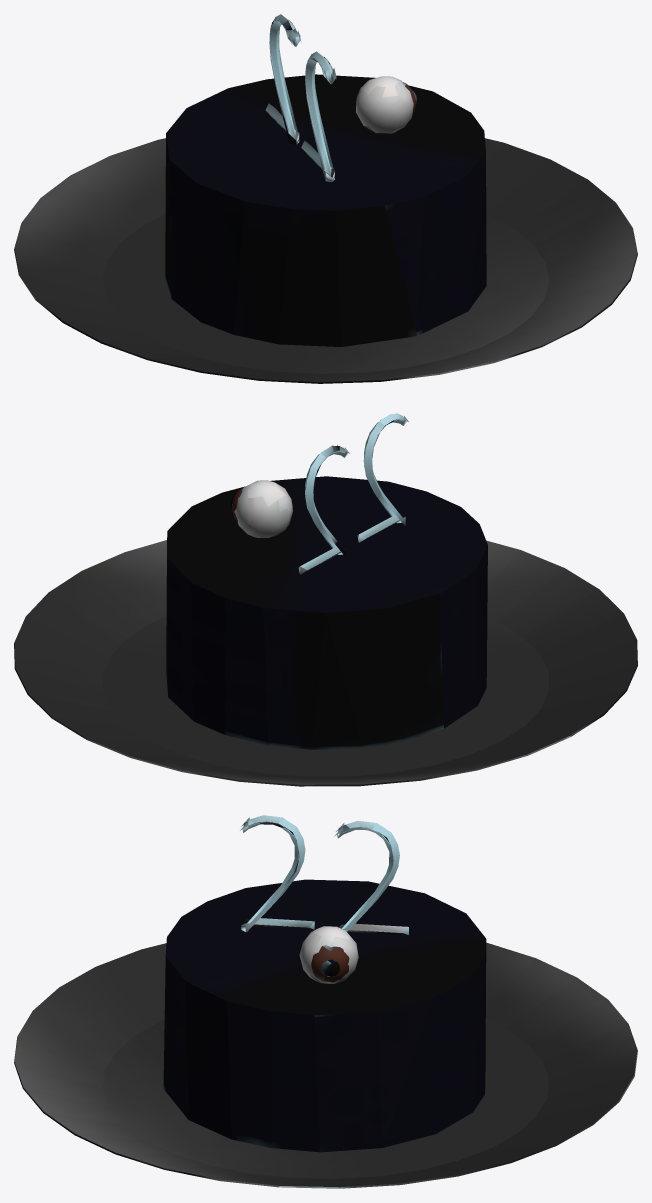
Rendered from cake.dae.
3 renders of one model, top to bottom at view 1: azimuth 30°, elevation 25°; view 2: azimuth 150°, elevation 25°; view 3: azimuth 270°, elevation 25°, orthographic.
Parts seen in each view (by area): view 1: Circle; view 2: Circle; view 3: Circle.
Part boxes in pixels (bbox=[...]): Circle: bbox=[14, 14, 637, 383]; Circle: bbox=[14, 413, 637, 786]; Circle: bbox=[14, 815, 637, 1188].
Bounding box in the file's own units: 0.3371 × 0.3371 × 0.1517.
Materials: 1 (1 with a texture image).
